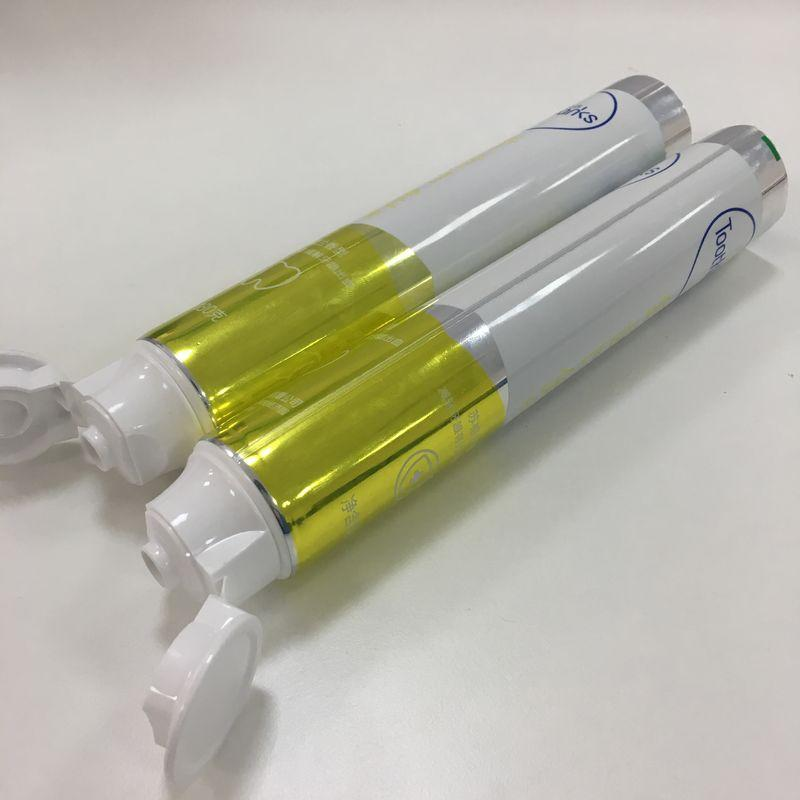toothpaste: (169, 98, 790, 585), (51, 59, 712, 461)
